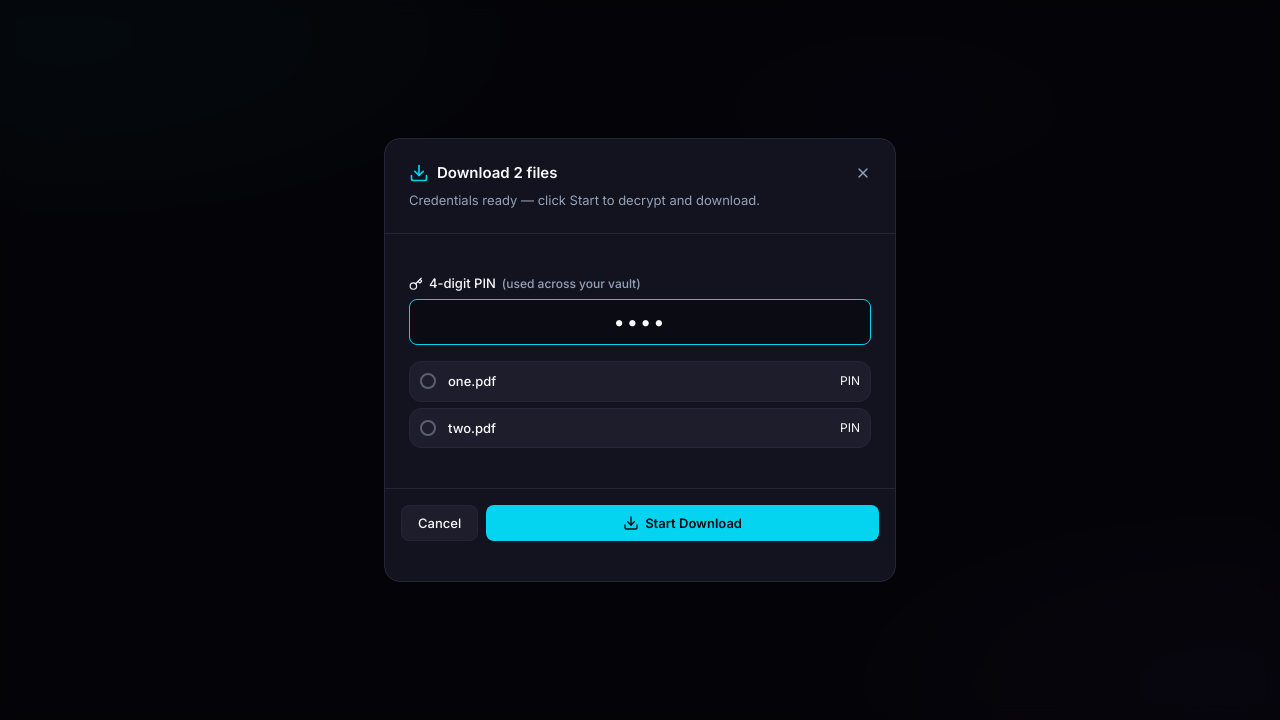
Test: BulkDownloadModal › retries only failed and pending files while preserving completed items
Click the button "Start Download" at (683, 523), box [486,505,879,541]
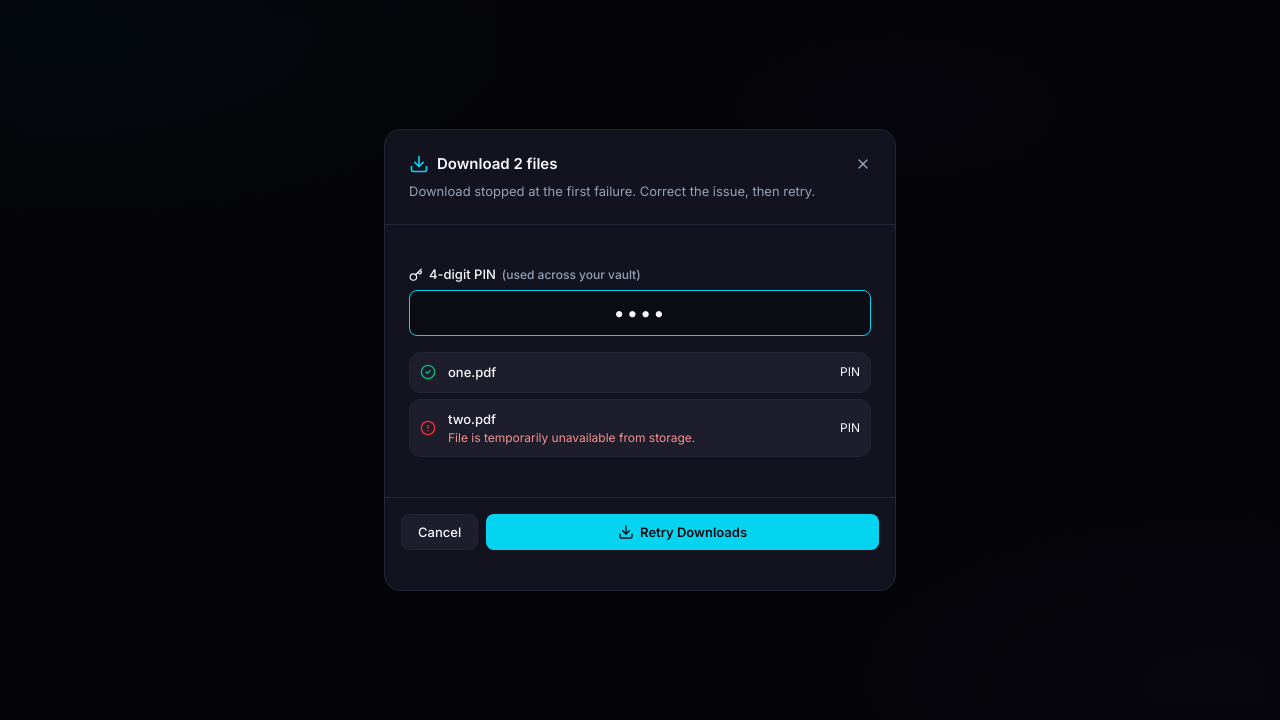
Result: the text "File is temporarily unavailable from storage." is shown at [448,430,695,445]
Click the button "Retry Downloads" at (683, 532), box [486,514,879,550]
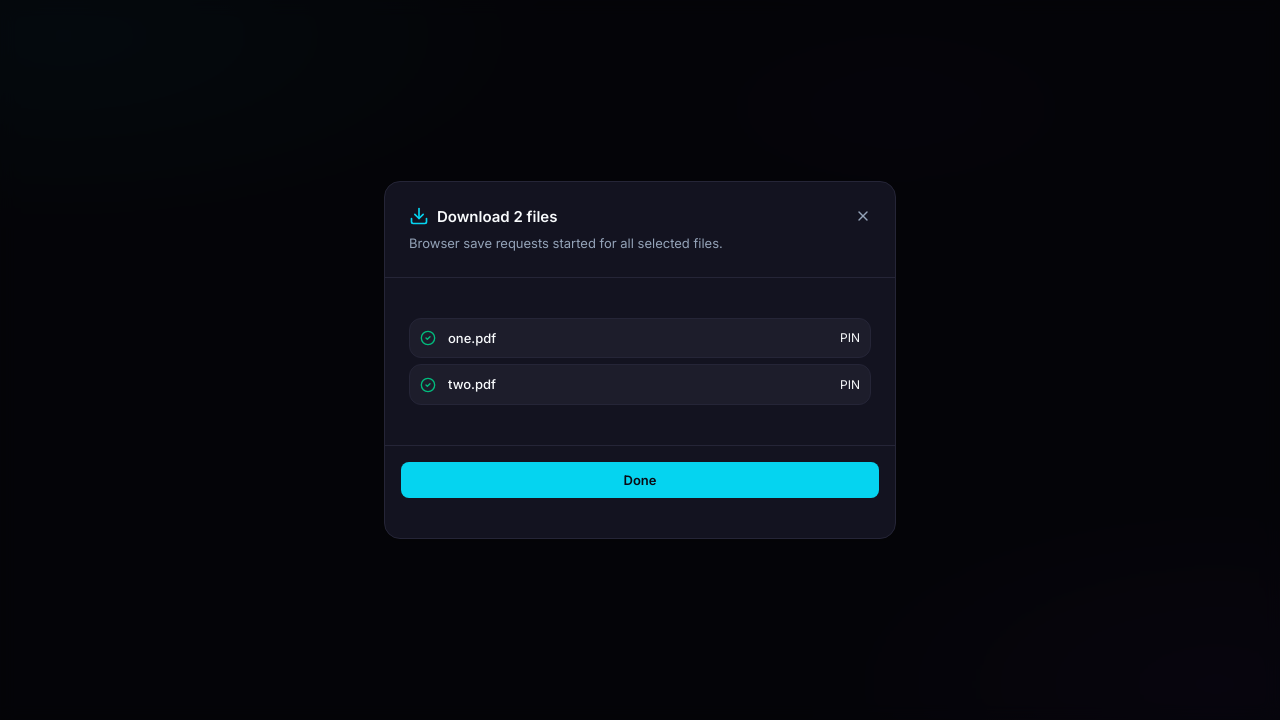
Result: the text "Browser save requests started for all selected files." is shown at [409,235,723,251]
